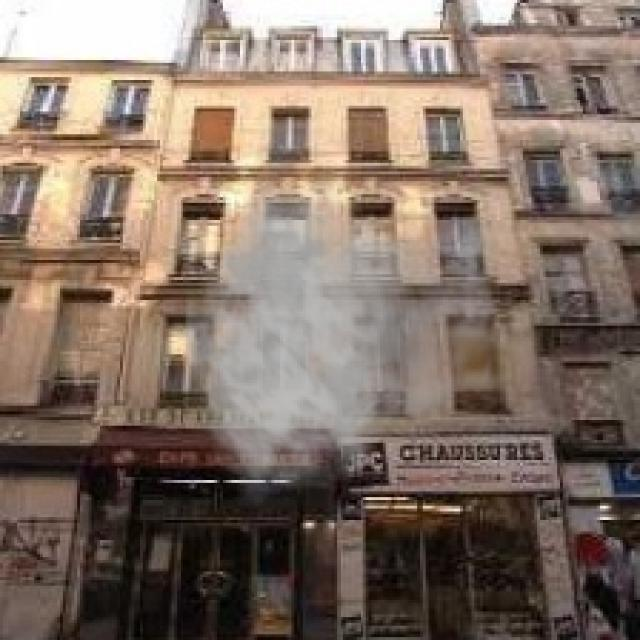Smoke: (182, 157, 528, 506)
